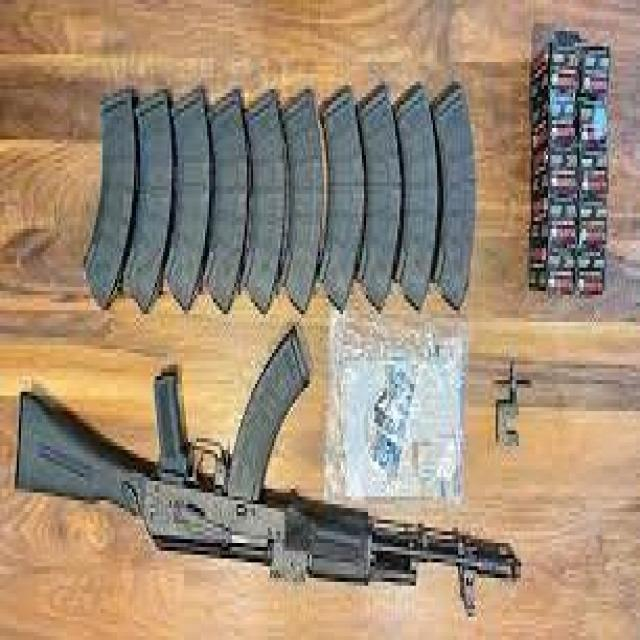weapon: (14, 323, 524, 621)
